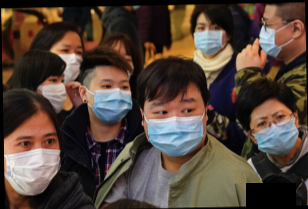with_mask: (4, 130, 62, 199), (145, 96, 207, 158), (250, 107, 300, 156), (92, 77, 134, 125), (49, 42, 84, 84), (39, 73, 69, 114), (193, 19, 225, 57), (259, 14, 283, 59)
